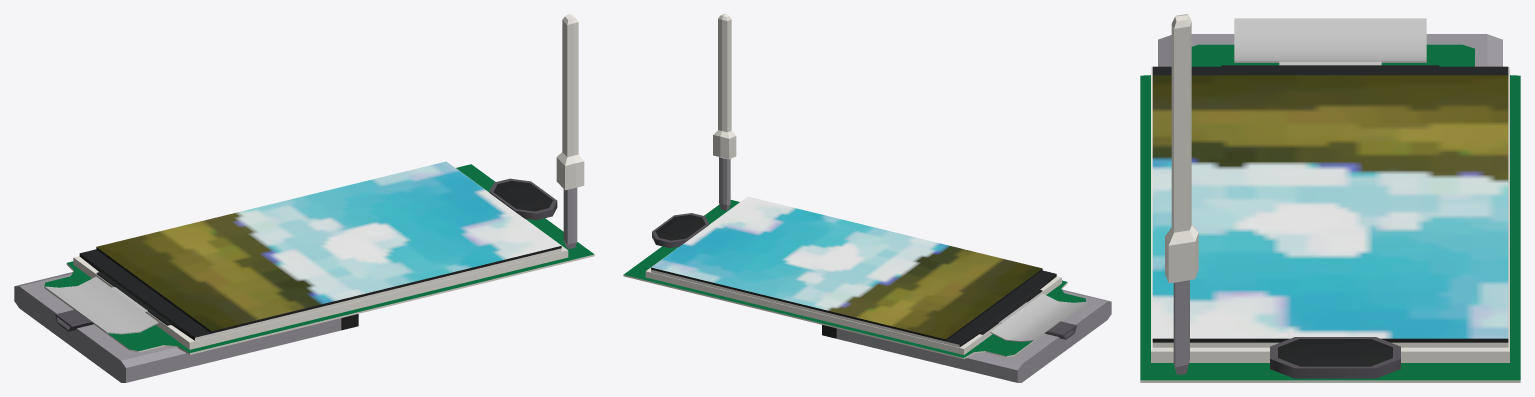
The model's file is Smartphone module.fbx.
3 renders of one model, left to right at view 1: azimuth 30°, elevation 25°; view 2: azimuth 150°, elevation 25°; view 3: azimuth 270°, elevation 25°, orthographic. The views are drawn at different scales.
Parts seen in each view (by area): view 1: smartphone_module; view 2: smartphone_module; view 3: smartphone_module.
Part boxes in pixels (box(x1,y1,x2,y2)): smartphone_module: box(14, 14, 594, 382); smartphone_module: box(623, 14, 1111, 382); smartphone_module: box(1140, 14, 1520, 382).
Bounding box in the file's own units: 1.02 × 0.5162 × 0.4526.
